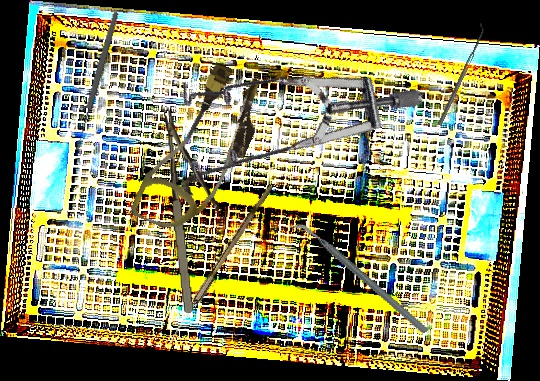Cannula: (129, 53, 274, 247)
Chopper: (288, 190, 431, 366)
Needle Holder: (163, 103, 227, 314)
Spatula Surgical: (434, 22, 488, 126)
Speculum: (147, 0, 429, 256)
Surgical Spoon: (166, 182, 273, 347), (72, 10, 121, 152)
